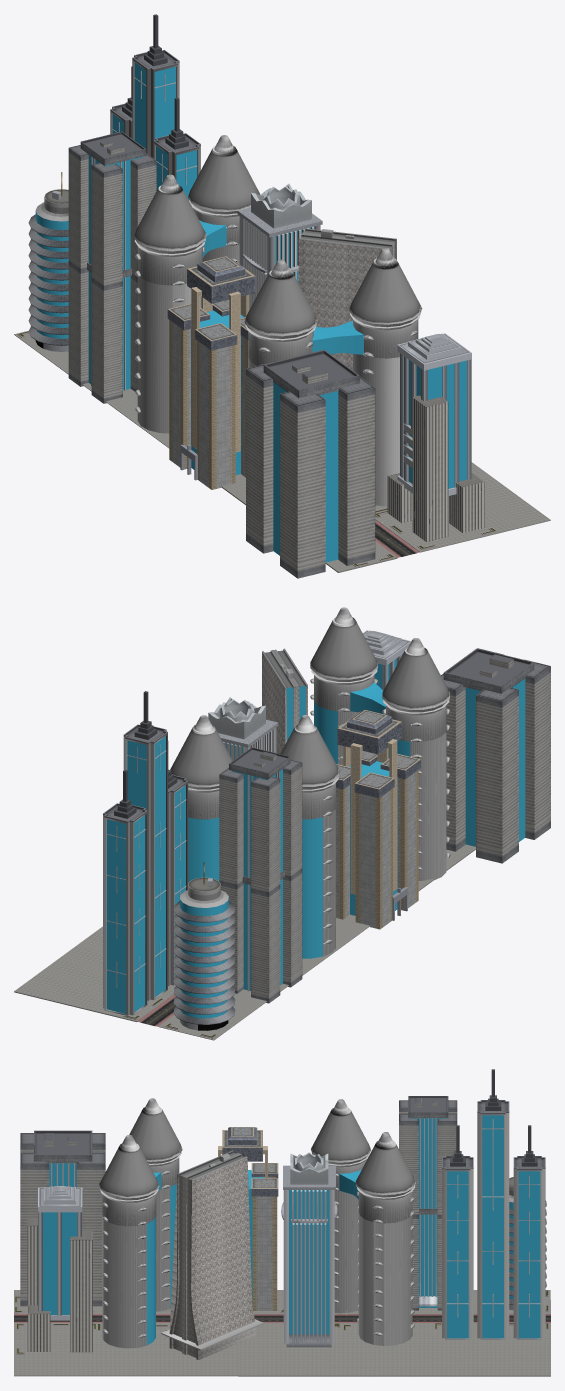
File: City_set2.fbx
3 renders of one model, top to bottom at view 1: azimuth 30°, elevation 25°; view 2: azimuth 150°, elevation 25°; view 3: azimuth 270°, elevation 25°, orthographic. The views are drawn at different scales.
Visible parts, largest first — view 1: polySurface6979; view 2: polySurface6979; view 3: polySurface6979.
Part boxes in pixels (x1=…): polySurface6979: x1=14, y1=14, x2=550, y2=578; polySurface6979: x1=14, y1=607, x2=550, y2=1040; polySurface6979: x1=14, y1=1069, x2=550, y2=1376.
Bounding box in the file's own units: 90.06 × 111 × 203.
